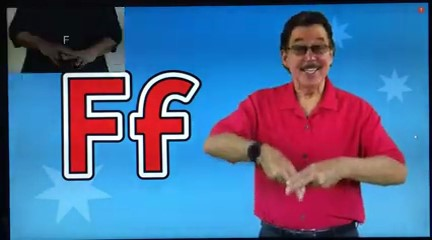F: (261, 136, 336, 202), (40, 34, 98, 69)
